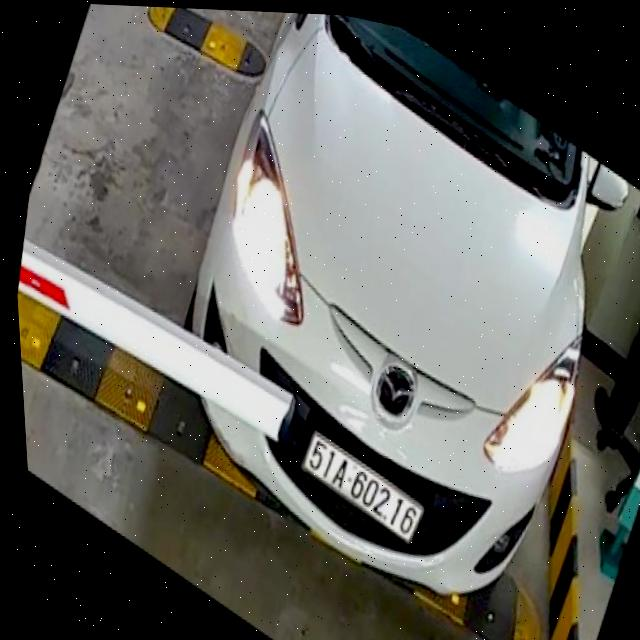car: (170, 12, 640, 611)
plate: (293, 424, 432, 551)
